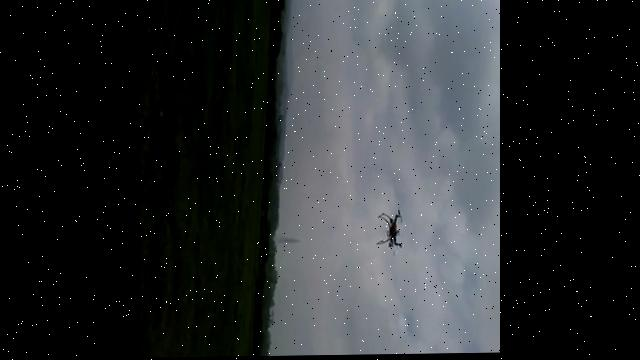drone: (374, 208, 406, 257)
